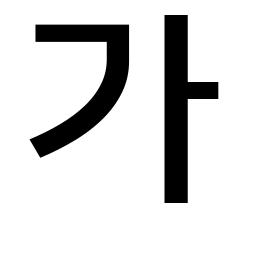Bbichim: (15, 120, 63, 170)
Buri: (152, 4, 198, 31)
Gaji: (154, 67, 203, 115)
Kkeokim: (91, 16, 140, 61)
